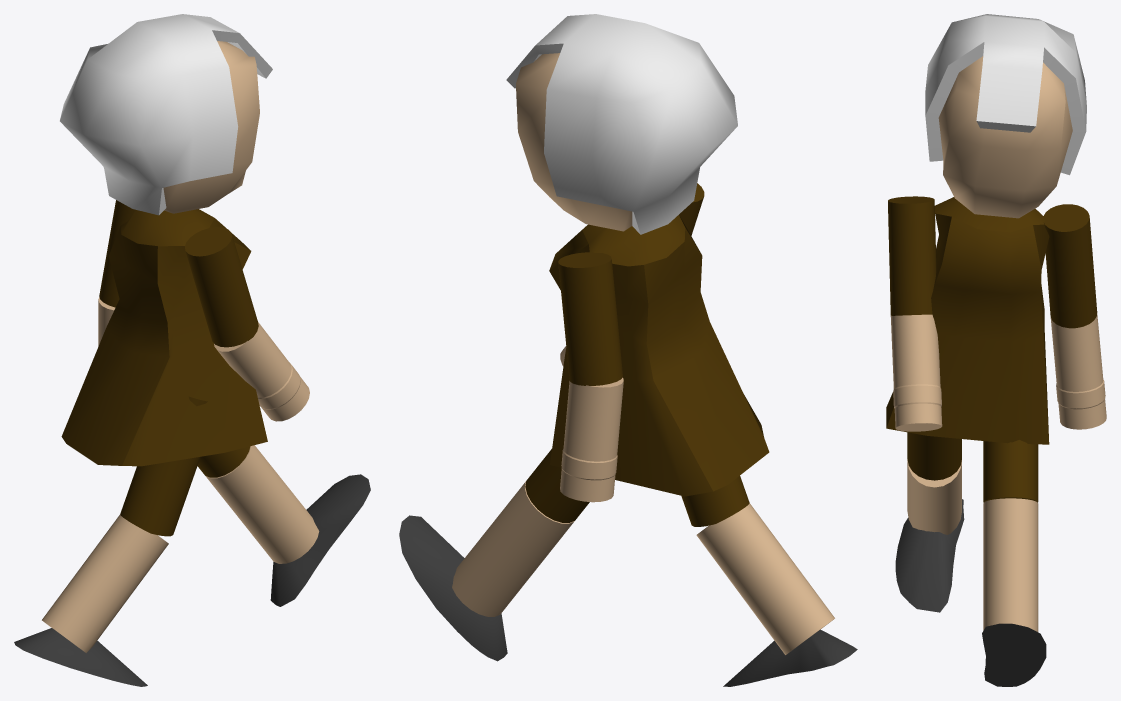
File: Oldlady_Walk_Chr.fbx
The picture shows the model from 3 angles, left to right: view 1: azimuth 30°, elevation 25°; view 2: azimuth 150°, elevation 25°; view 3: azimuth 270°, elevation 25°; orthographic projection. The views are drawn at different scales.
Visible parts, largest first — view 1: polySurface5, polySurface18, pCylinder3, pCylinder4, pCylinder5, polySurface17, pCone2, pCylinder1, pCone1, polySurface11, pCylinder8, pCylinder2 (+2 smaller); view 2: polySurface18, polySurface5, pCylinder3, pCylinder4, pCylinder8, pCone2, polySurface17, polySurface8, pCone1, pCylinder2, pCylinder1, polySurface10 (+1 smaller); view 3: polySurface5, polySurface18, polySurface17, pCylinder4, pCylinder8, pCylinder5, pCone1, pCone2, polySurface11, pCylinder2, polySurface8, pCylinder3 (+5 smaller).
Boxes of the visible parts, bbox=[...] form: polySurface5: bbox=[61, 209, 267, 466]; polySurface18: bbox=[60, 14, 272, 215]; pCylinder3: bbox=[42, 514, 168, 652]; pCylinder4: bbox=[205, 445, 319, 563]; pCylinder5: bbox=[185, 227, 258, 347]; polySurface17: bbox=[163, 41, 259, 213]; pCone2: bbox=[270, 474, 370, 606]; pCylinder1: bbox=[120, 396, 207, 536]; pCone1: bbox=[14, 628, 147, 686]; polySurface11: bbox=[214, 322, 291, 397]; pCylinder8: bbox=[99, 200, 135, 307]; pCylinder2: bbox=[197, 446, 250, 477]; polySurface18: bbox=[506, 14, 737, 234]; polySurface5: bbox=[549, 215, 769, 496]; pCylinder3: bbox=[696, 503, 834, 654]; pCylinder4: bbox=[452, 481, 574, 616]; pCylinder8: bbox=[558, 252, 622, 385]; pCone2: bbox=[399, 515, 507, 661]; polySurface17: bbox=[516, 53, 632, 231]; polySurface8: bbox=[563, 377, 623, 461]; pCone1: bbox=[723, 629, 857, 686]; pCylinder2: bbox=[525, 449, 589, 522]; pCylinder1: bbox=[681, 476, 749, 526]; polySurface10: bbox=[560, 468, 615, 502]; polySurface5: bbox=[886, 197, 1049, 444]; polySurface18: bbox=[925, 14, 1086, 175]; polySurface17: bbox=[938, 56, 1072, 218]; pCylinder4: bbox=[983, 498, 1038, 631]; pCylinder8: bbox=[1043, 204, 1097, 328]; pCylinder5: bbox=[888, 196, 936, 315]; pCone1: bbox=[895, 499, 964, 612]; pCone2: bbox=[982, 623, 1046, 686]; polySurface11: bbox=[890, 314, 940, 388]; pCylinder2: bbox=[983, 440, 1038, 502]; polySurface8: bbox=[1050, 313, 1103, 391]; pCylinder3: bbox=[907, 459, 961, 534].
Bounding box in the file's own units: 3.06 × 4.74 × 1.53.
